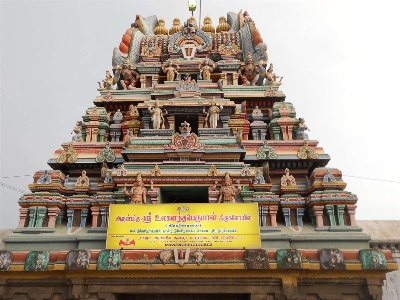gopura: (27, 17, 363, 224)
